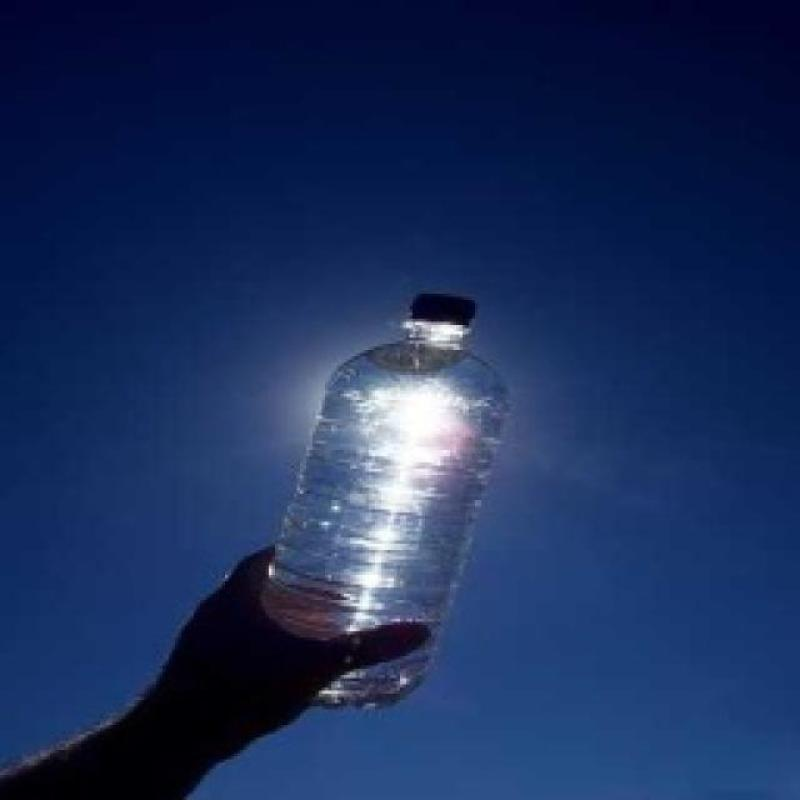botella: (258, 291, 512, 710)
